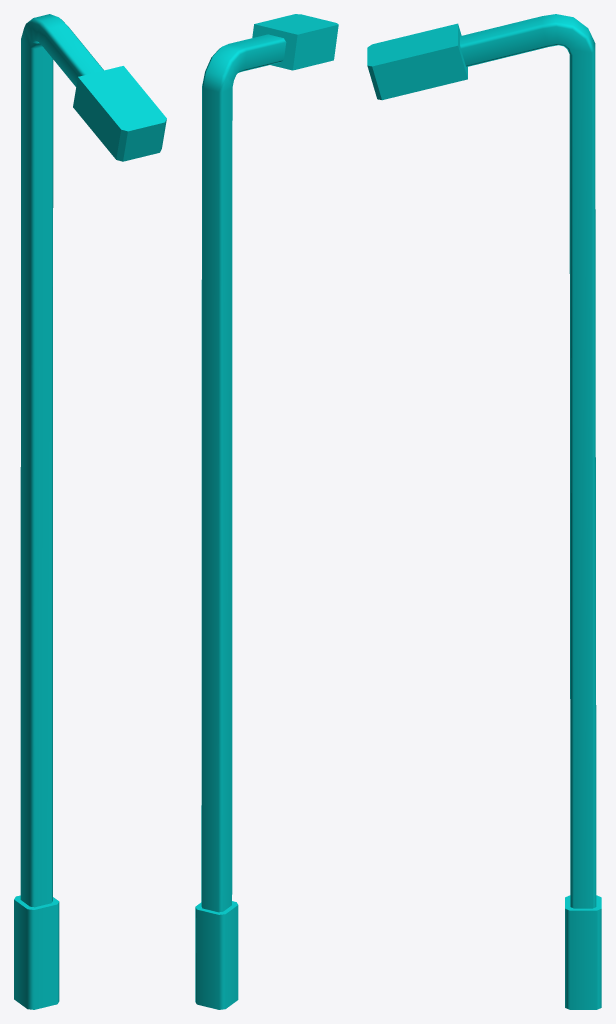
The model's file is StreetLightA2.fbx.
3 views of the same model, side by side, from view 1: azimuth 30°, elevation 25°; view 2: azimuth 150°, elevation 25°; view 3: azimuth 270°, elevation 25° (orthographic). The views are drawn at different scales.
Parts seen in each view (by area): view 1: StreetLightA2; view 2: StreetLightA2; view 3: StreetLightA2.
Part boxes in pixels (x1=…): StreetLightA2: x1=14, y1=14, x2=166, y2=1009; StreetLightA2: x1=195, y1=14, x2=338, y2=1009; StreetLightA2: x1=367, y1=14, x2=601, y2=1009.
Size of the model in its own units: 23.68 by 490 by 106.
